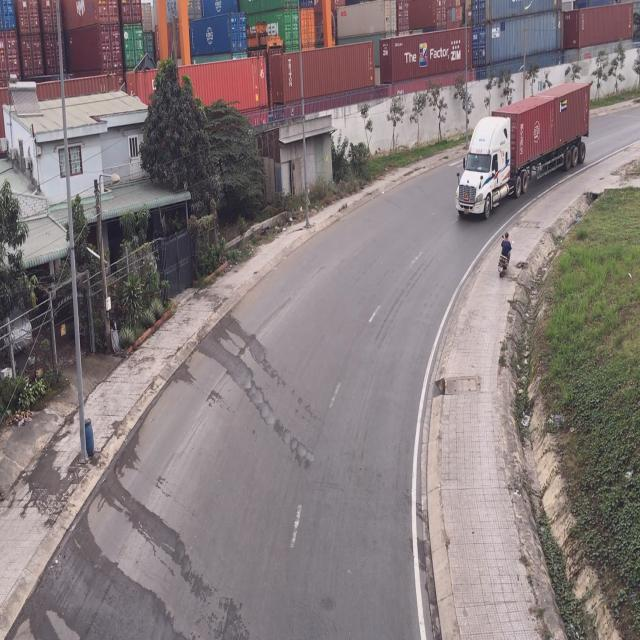motorbike: (496, 231, 512, 277)
truck: (453, 81, 591, 220)
